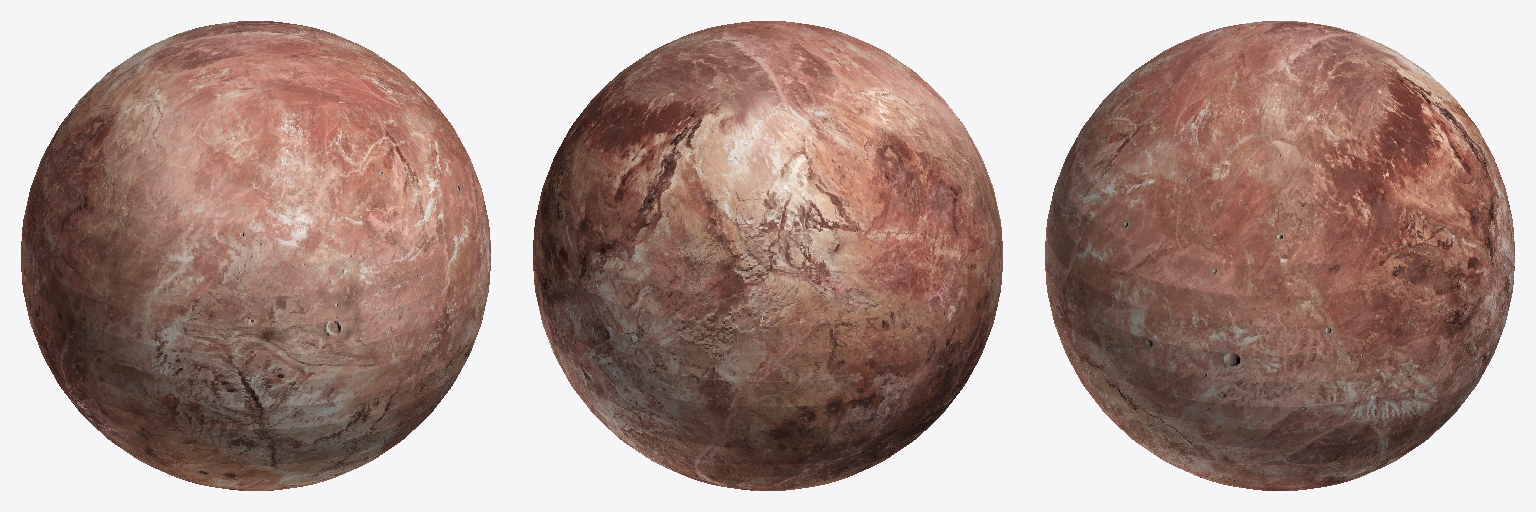
3 views of the same model, side by side, from view 1: azimuth 30°, elevation 25°; view 2: azimuth 150°, elevation 25°; view 3: azimuth 270°, elevation 25° (orthographic).
Size of the model in its own units: 200 by 200 by 200.
Materials: 1 (1 with a texture image).